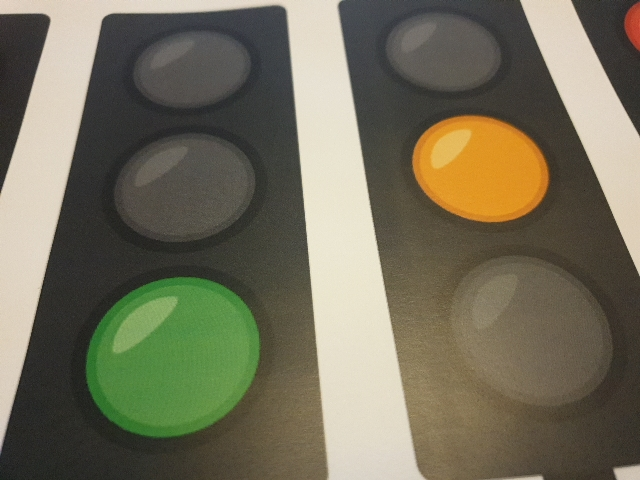amber: (370, 2, 553, 452)
green: (105, 23, 291, 450)
